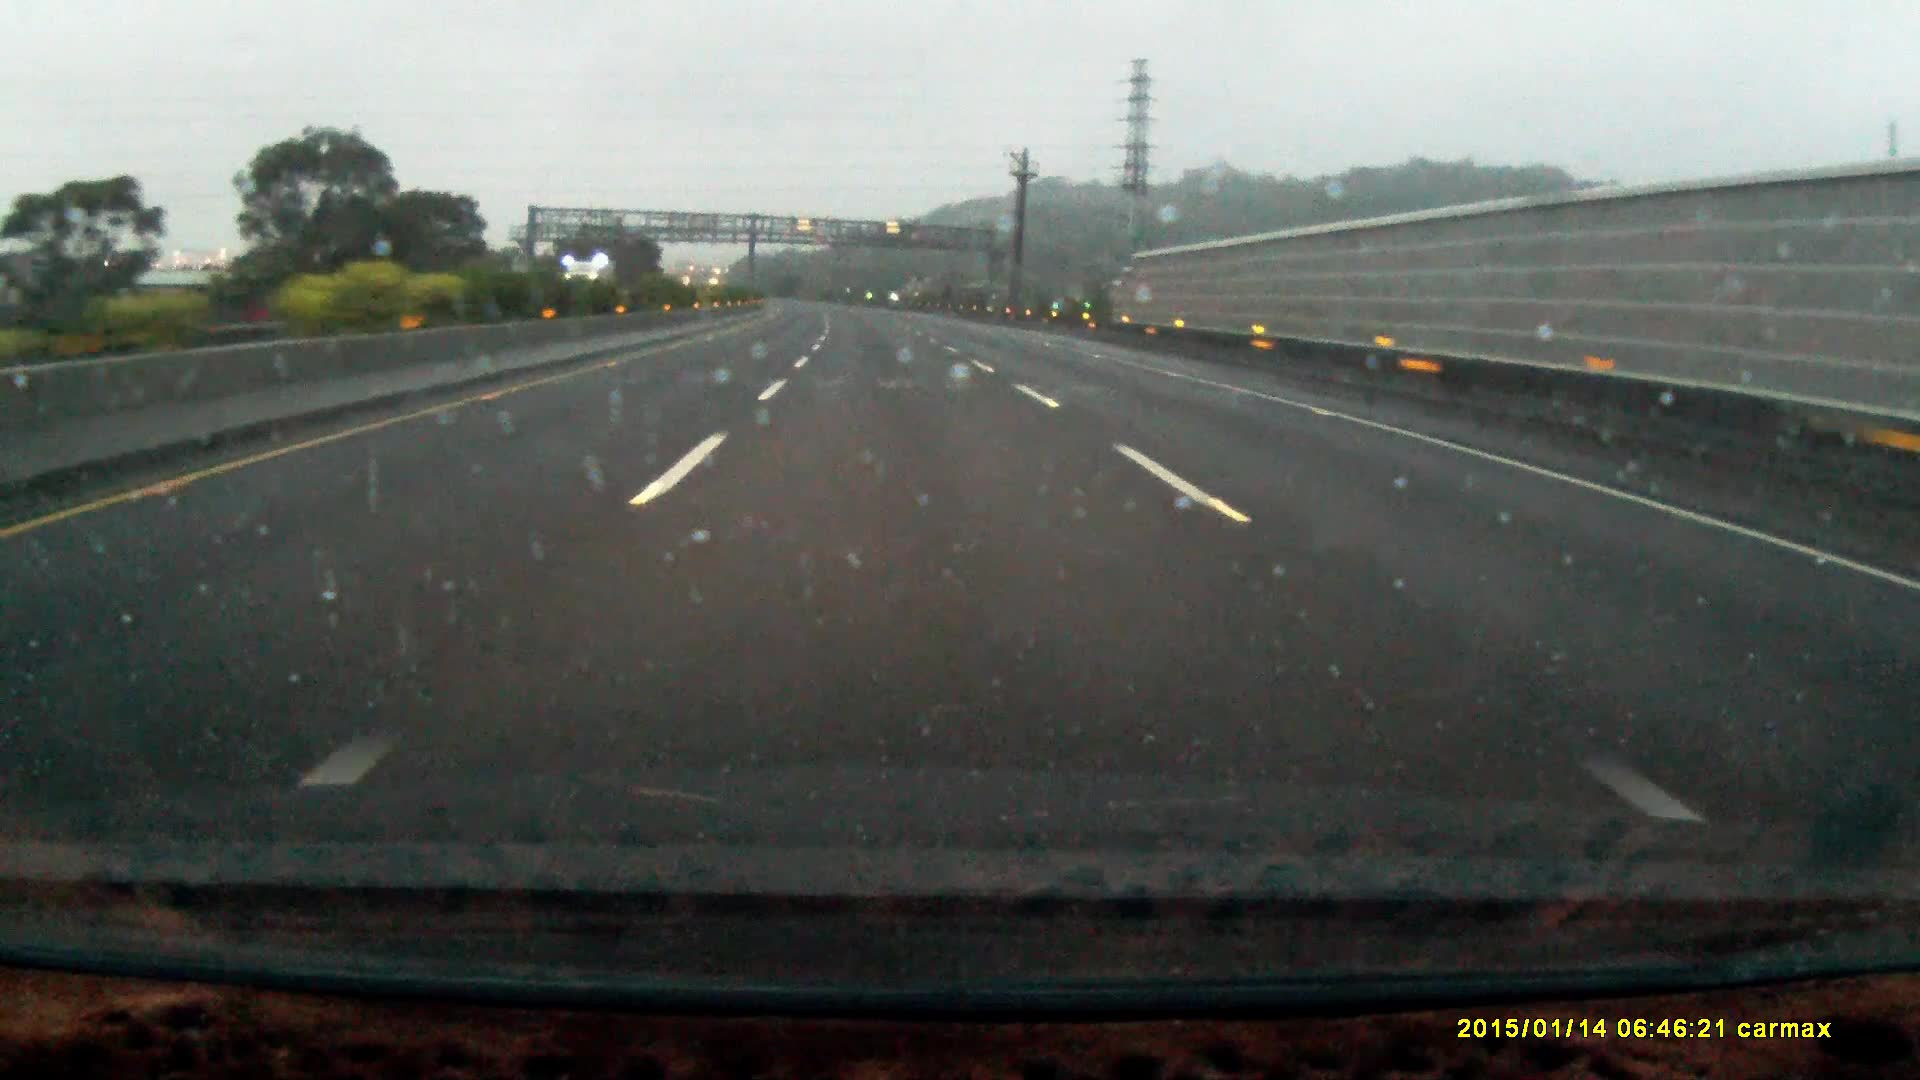vehicle: (563, 258, 615, 315)
